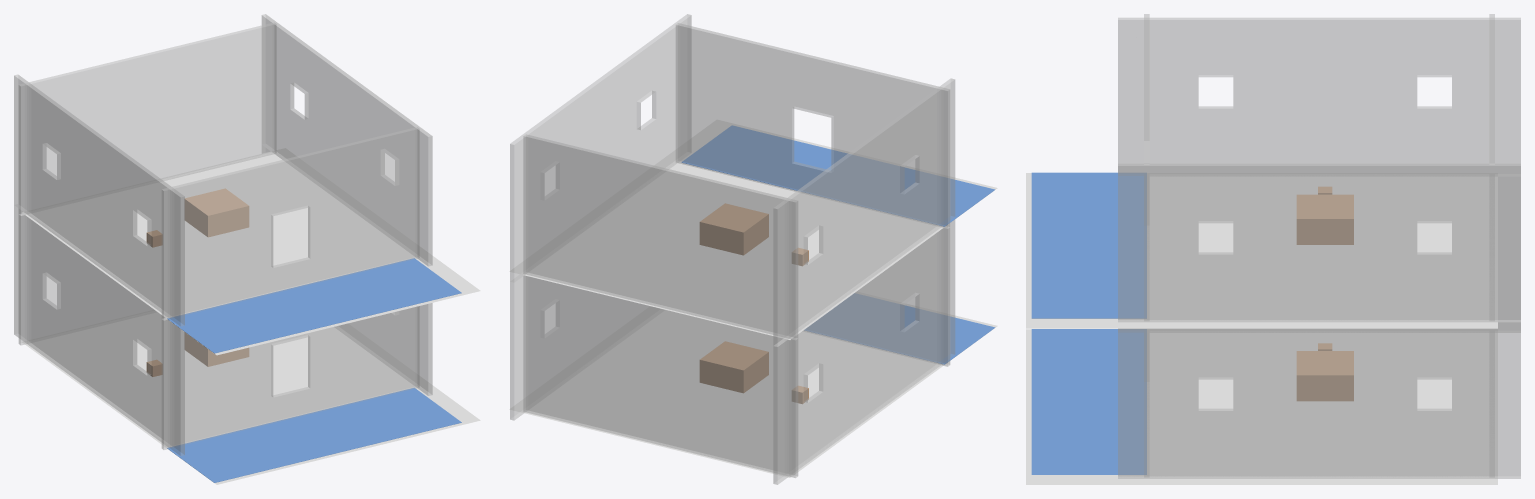
The model's file is room_scene_corridor.glb.
The picture shows the model from 3 angles, left to right: view 1: azimuth 30°, elevation 25°; view 2: azimuth 150°, elevation 25°; view 3: azimuth 270°, elevation 25°; orthographic projection. The views are drawn at different scales.
Parts seen in each view (by area): view 1: Plane.001, Cube.009, Cube.008, Plane, Cube.010, Cube.011, Cube.003, Cube.001, Cube, Cube.007, Cube.002, Cube.004 (+2 smaller); view 2: Plane.001, Cube.009, Plane, Cube.002, Cube.008, Cube.010, Cube.011, Cube.003, Cube.007, Cube.004, Cube.001, Cube (+2 smaller); view 3: Cube.011, Cube.010, Cube.004, Plane.001, Plane, Cube.007, Cube, Cube.003, Cube.005, Cube.012, Cube.008, Cube.009 (+2 smaller).
Boxes of the visible parts, box(x1,y1,x2,y2) form: Plane.001: box(22, 148, 480, 355); Cube.009: box(18, 22, 276, 215); Cube.008: box(161, 127, 419, 320); Plane: box(22, 310, 480, 484); Cube.010: box(14, 74, 184, 326); Cube.011: box(261, 14, 432, 266); Cube.003: box(14, 204, 184, 455); Cube.001: box(161, 258, 419, 449); Cube: box(167, 387, 461, 482); Cube.007: box(167, 258, 461, 353); Cube.002: box(18, 155, 267, 345); Cube.004: box(262, 145, 432, 395); Plane.001: box(509, 119, 997, 339); Cube.009: box(523, 134, 798, 339); Plane: box(509, 292, 997, 477); Cube.002: box(523, 275, 798, 477); Cube.008: box(676, 23, 950, 228); Cube.010: box(773, 78, 955, 346); Cube.011: box(510, 14, 691, 282); Cube.003: box(773, 220, 955, 484); Cube.007: box(681, 125, 994, 226); Cube.004: box(510, 273, 662, 420); Cube.001: box(678, 162, 950, 366); Cube: box(804, 293, 995, 364); Cube.011: box(1118, 163, 1520, 322); Cube.010: box(1118, 17, 1520, 175); Cube.004: box(1118, 320, 1520, 478); Plane.001: box(1026, 173, 1497, 328); Plane: box(1026, 329, 1497, 484); Cube.007: box(1031, 172, 1146, 318); Cube: box(1031, 329, 1146, 474); Cube.003: box(1118, 176, 1520, 332); Cube.005: box(1296, 351, 1353, 401); Cube.012: box(1296, 194, 1353, 244); Cube.008: box(1144, 14, 1149, 320); Cube.009: box(1489, 14, 1494, 320).
Size of the model in its own units: 6.5 by 6 by 8.6.
